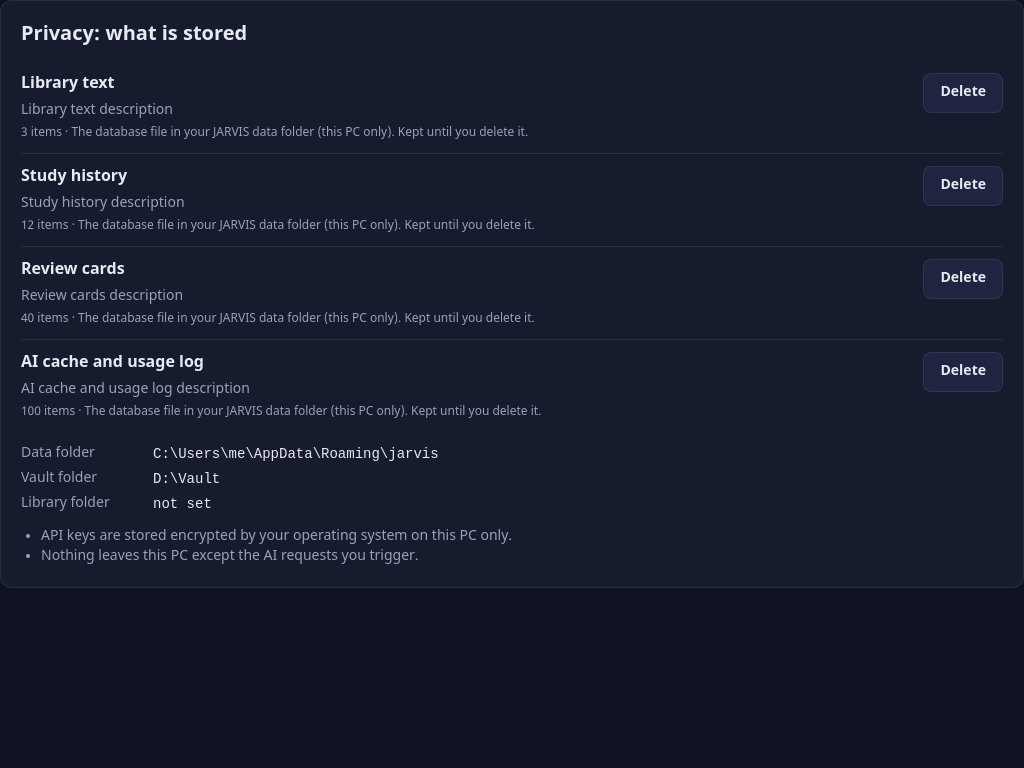
PrivacyPanel › deletes a category after confirmation and refreshes the count
Click the button with aria-label "delete review cards": point(963, 279) [924,259,1003,299]
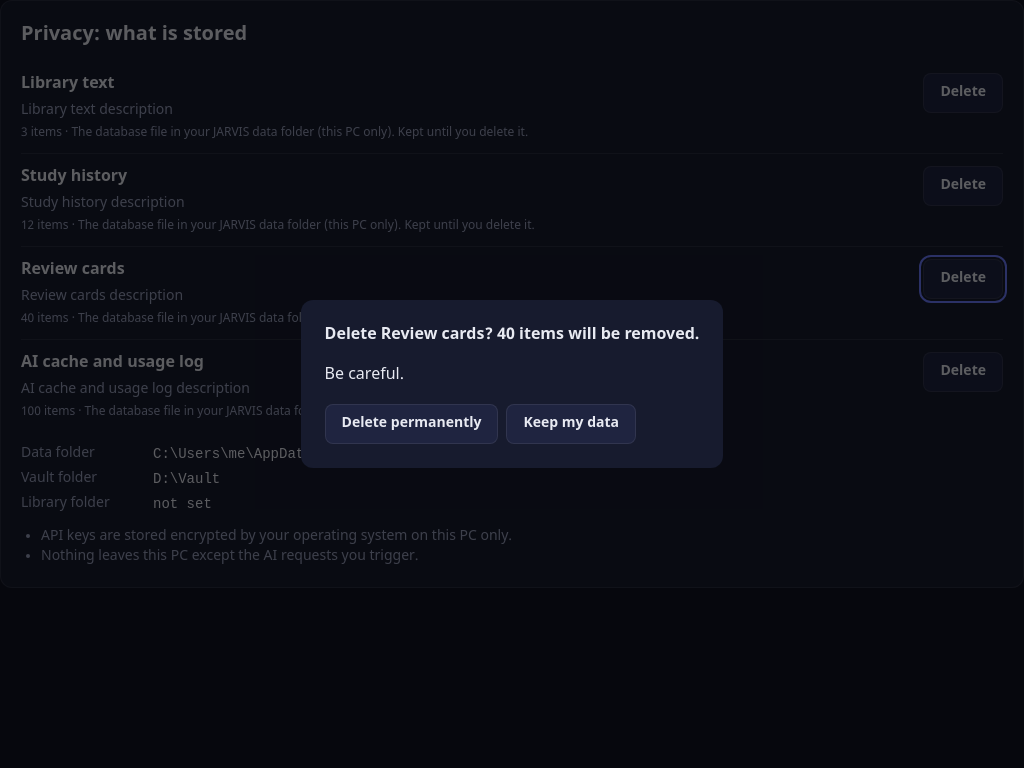
Click the button "Delete permanently": point(412, 424) [325,404,498,444]
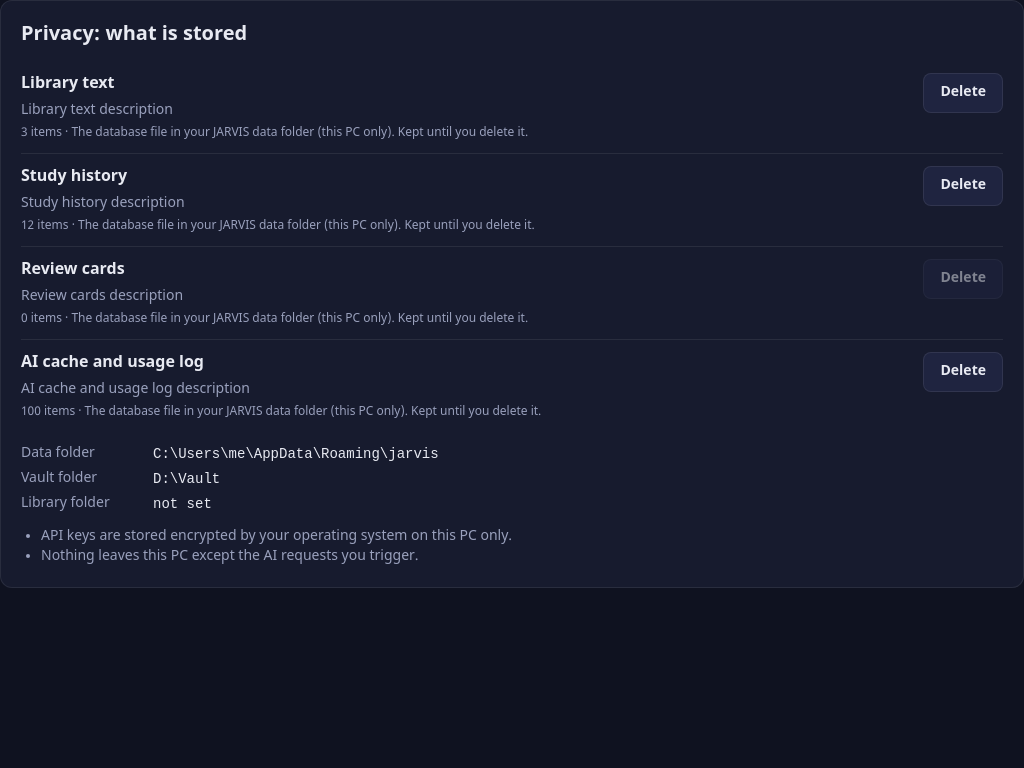
Check: the text "0 items" is shown, box [21,311,528,327]
